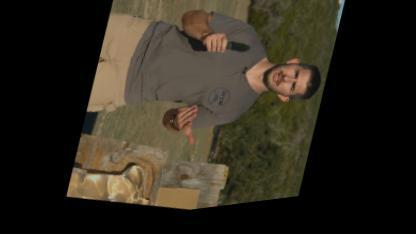knife: (203, 30, 258, 72)
